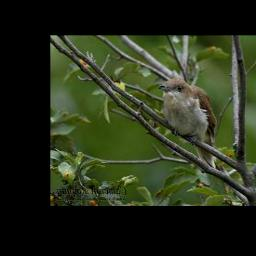Cuckoo: (158, 77, 219, 169)
